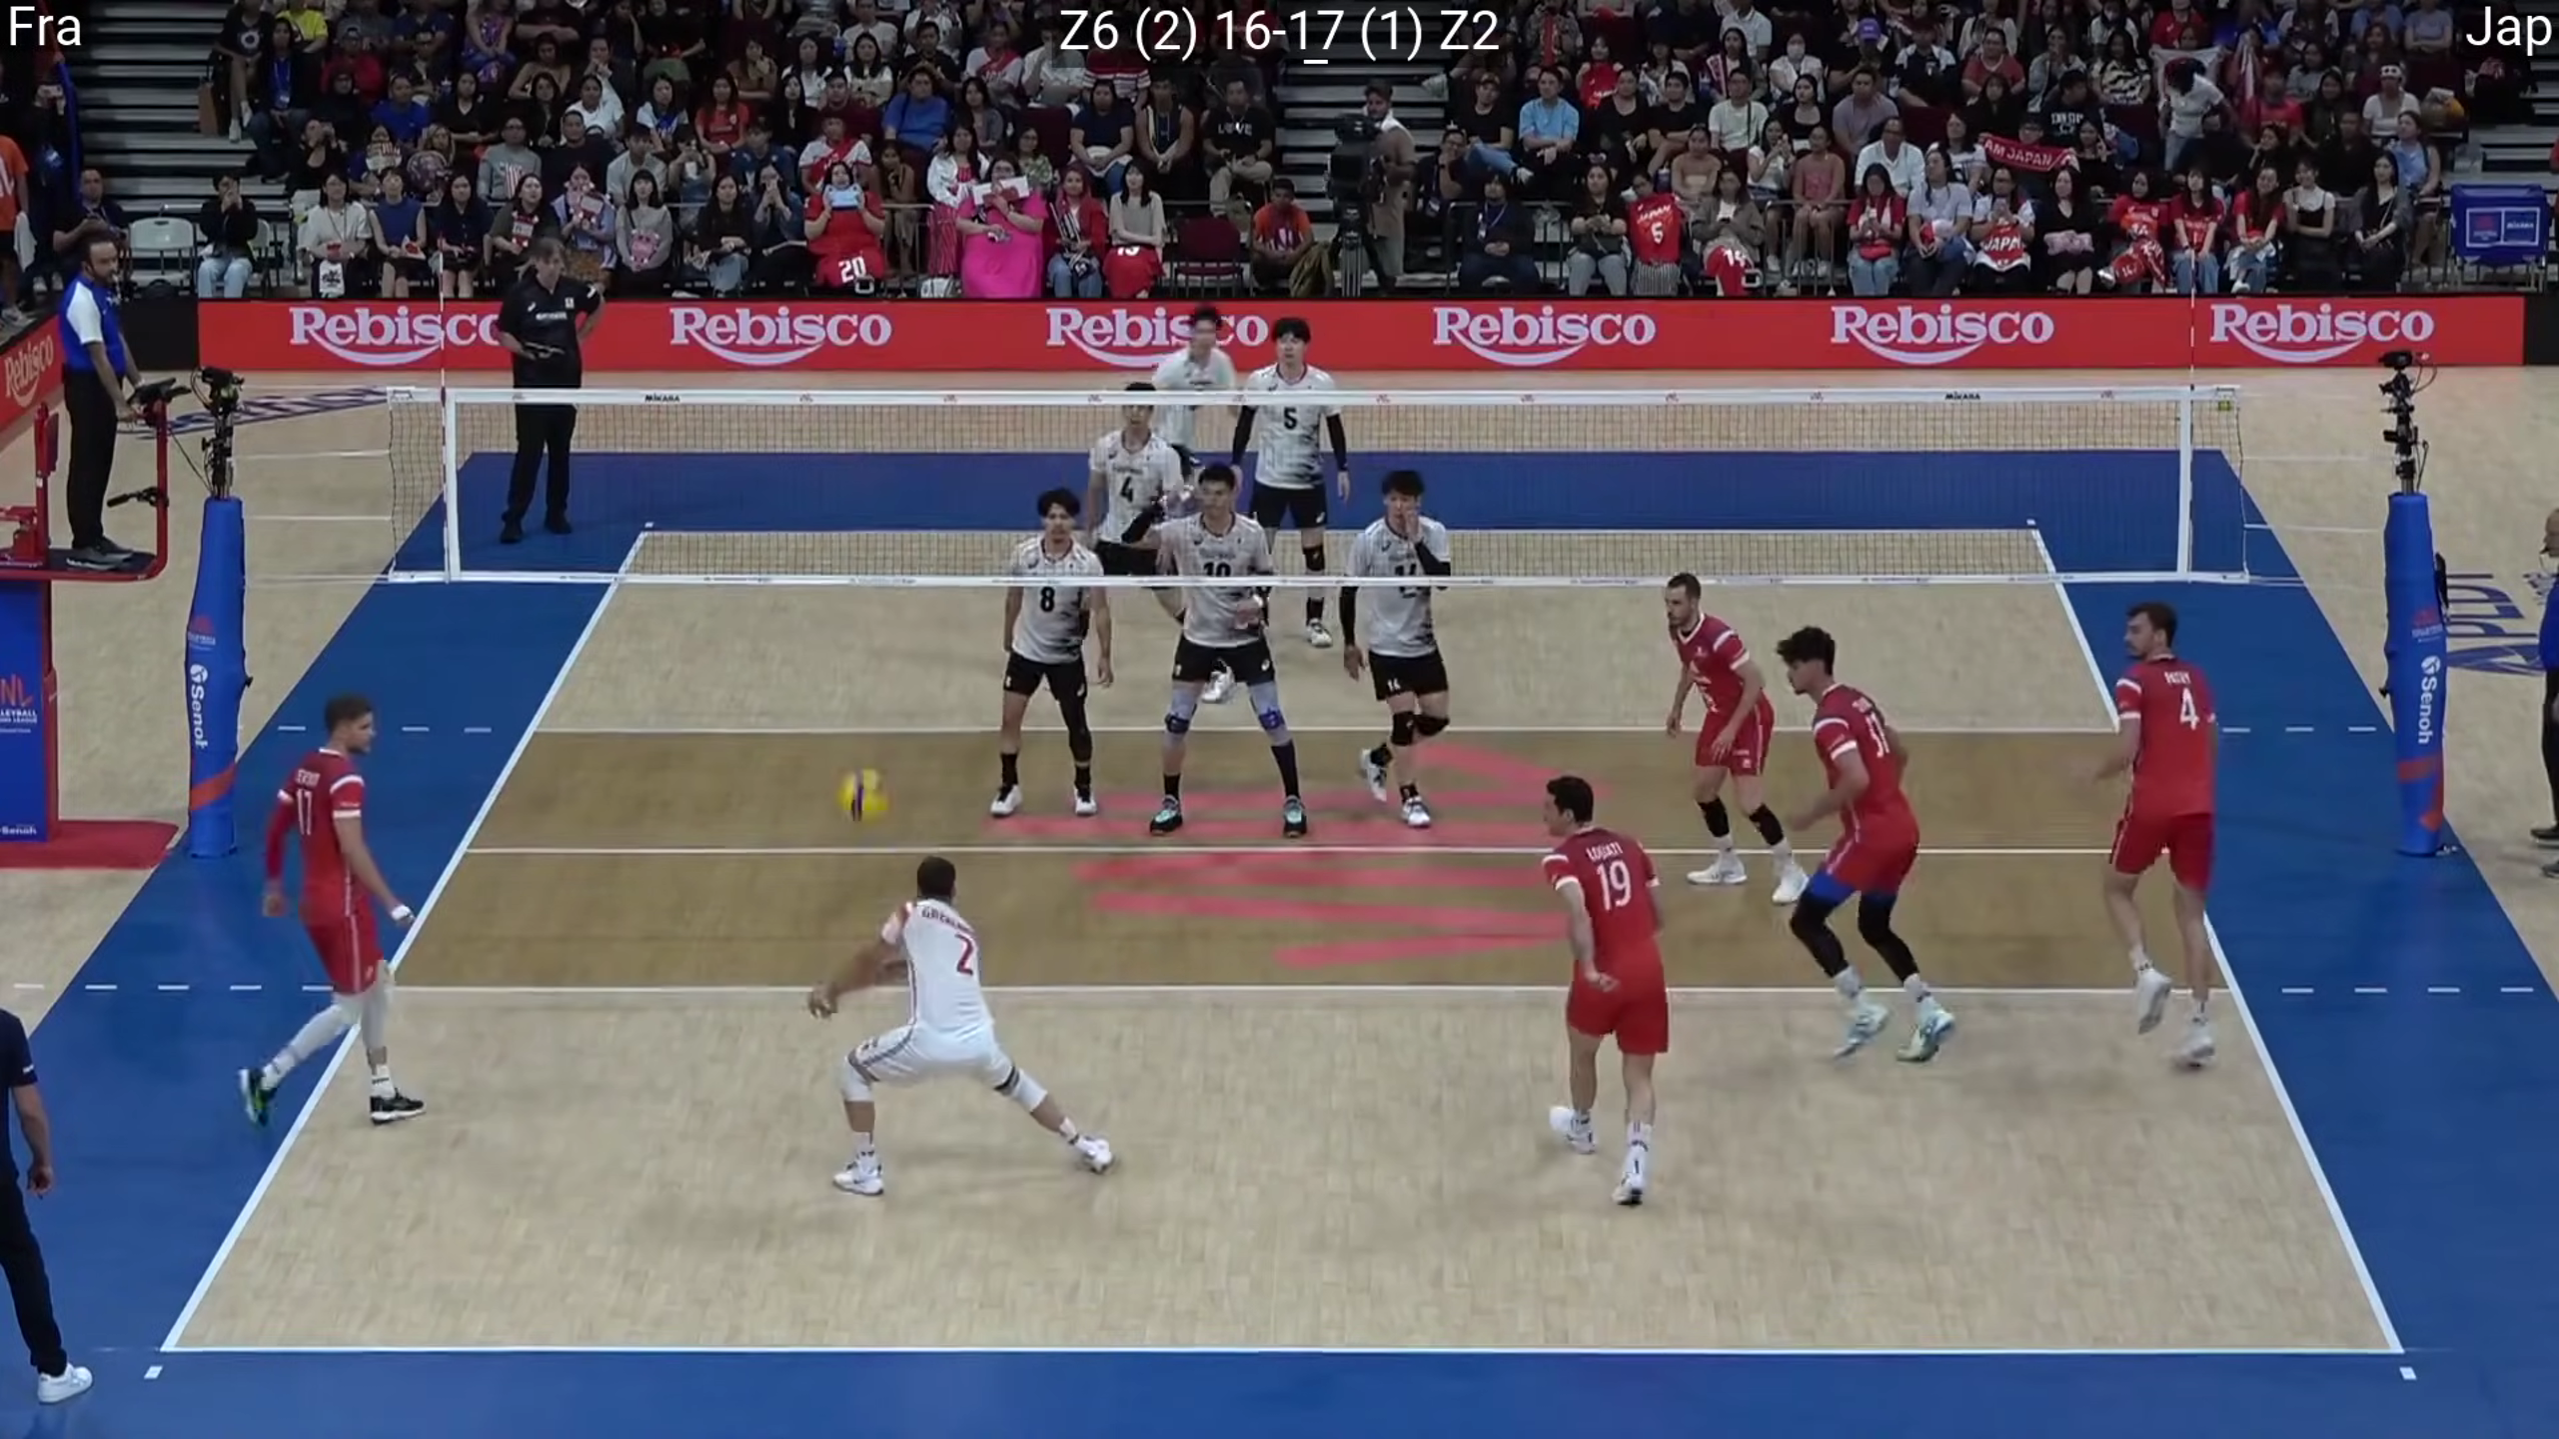Ball: (833, 764, 893, 826)
